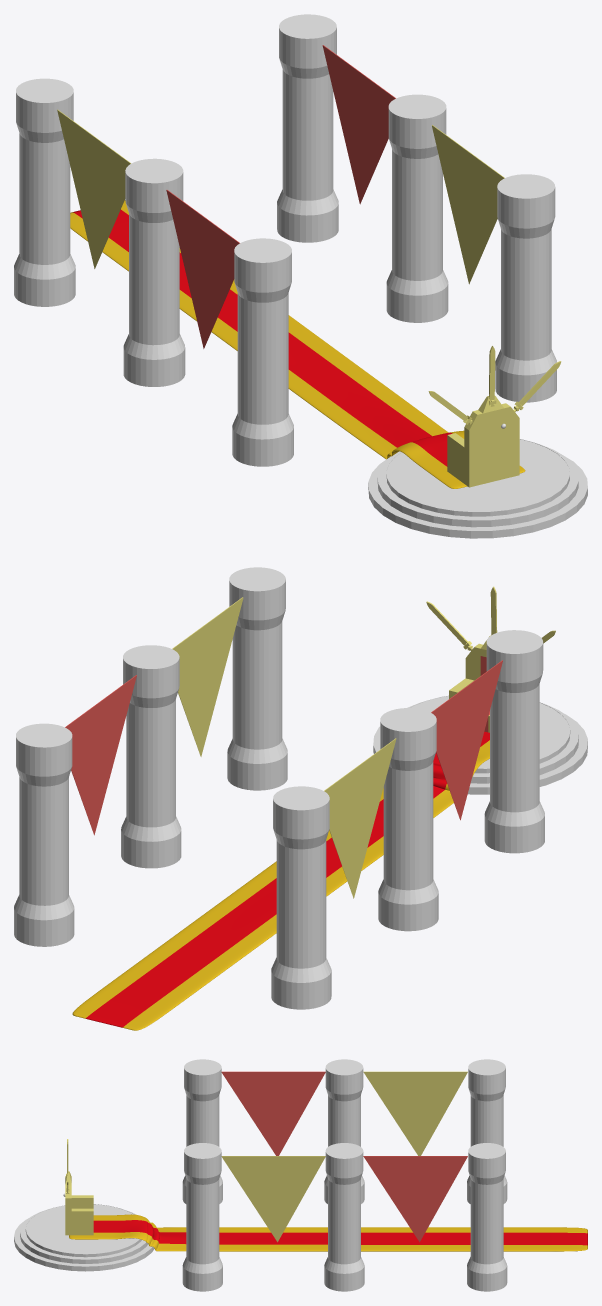
The model's file is Throne Room Assets.fbx.
3 views of the same model, one above another, from view 1: azimuth 30°, elevation 25°; view 2: azimuth 150°, elevation 25°; view 3: azimuth 270°, elevation 25° (orthographic). The views are drawn at different scales.
Parts seen in each view (by area): view 1: Plane, Circle.001, Circle.006, Circle.003, Circle.002, Circle.004, Circle, Circle.005, Cube.014, Plane.006, Plane.005, Plane.003 (+1 smaller); view 2: Plane, Circle.004, Circle.003, Circle, Circle.005, Circle.002, Circle.006, Plane.006, Plane.005, Plane.003, Plane.004, Circle.001 (+1 smaller); view 3: Plane, Circle.001, Circle, Circle.003, Circle.002, Plane.006, Plane.005, Plane.003, Plane.004, Circle.004, Circle.006, Circle.005 (+1 smaller).
Boxes of the visible parts, x1,y1,x2,y2 form: Plane: (70, 200, 525, 488); Circle.001: (368, 439, 587, 538); Circle.006: (232, 238, 293, 466); Circle.003: (277, 14, 338, 242); Circle.002: (386, 94, 448, 322); Circle.004: (14, 78, 75, 306); Circle: (495, 174, 556, 402); Circle.005: (123, 158, 185, 386); Cube.014: (428, 346, 561, 487); Plane.006: (57, 109, 130, 268); Plane.005: (166, 190, 239, 348); Plane.003: (322, 45, 395, 204); Plane: (72, 731, 489, 1030); Circle.004: (271, 786, 331, 1009); Circle.003: (14, 723, 74, 946); Circle: (227, 567, 287, 790); Circle.005: (378, 708, 438, 931); Circle.002: (121, 645, 181, 868); Circle.006: (484, 630, 544, 853); Plane.006: (324, 738, 396, 898); Plane.005: (431, 660, 502, 820); Plane.003: (65, 675, 136, 835); Plane.004: (172, 597, 243, 756); Circle.001: (373, 695, 587, 794); Plane: (69, 1214, 587, 1251); Circle.001: (14, 1204, 154, 1271); Circle: (182, 1143, 222, 1291); Circle.003: (467, 1143, 507, 1291); Circle.002: (324, 1143, 364, 1291); Plane.006: (363, 1071, 467, 1155); Plane.005: (221, 1071, 325, 1155); Plane.003: (363, 1156, 467, 1242); Plane.004: (221, 1156, 325, 1242); Circle.004: (467, 1059, 507, 1203); Circle.006: (182, 1059, 222, 1203); Circle.005: (324, 1059, 364, 1203).
Bounding box in the file's own units: 1183 × 736 × 2853.
